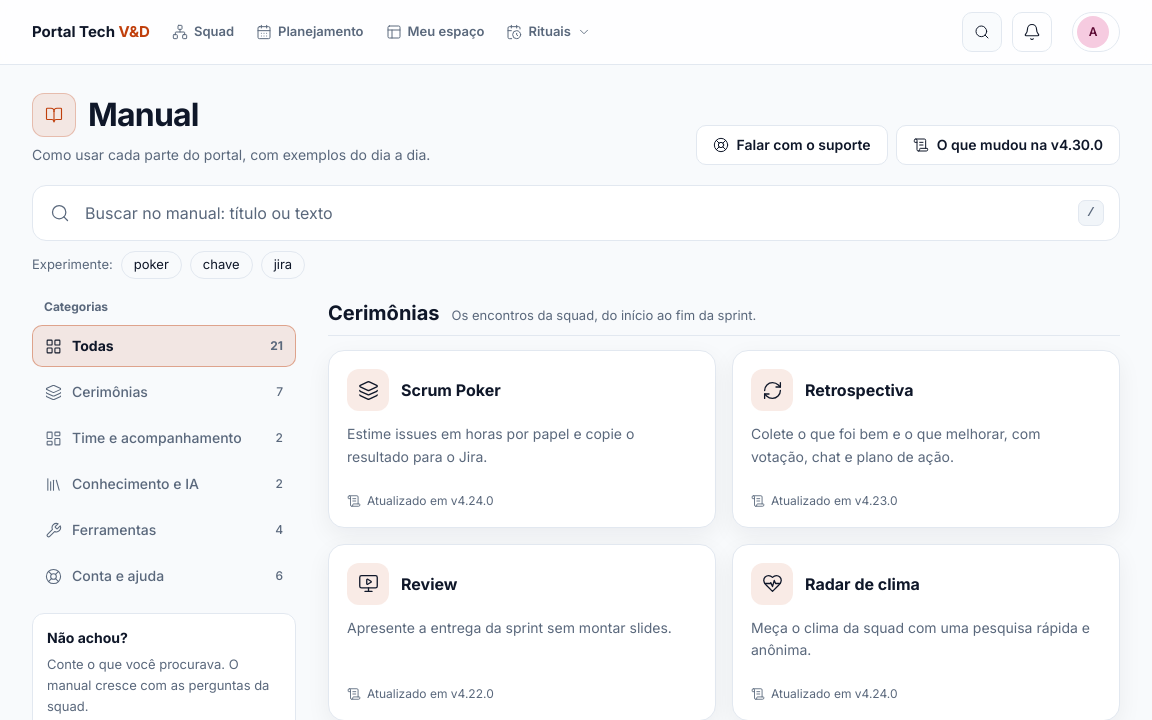
Test: índice do Manual › busca no corpo: mostra o trecho "No texto" e as contagens das categorias acompanham
Step 1. Type "assinatura" into the search field named "Buscar no manual" → (576, 213), box [32,185,1120,241]
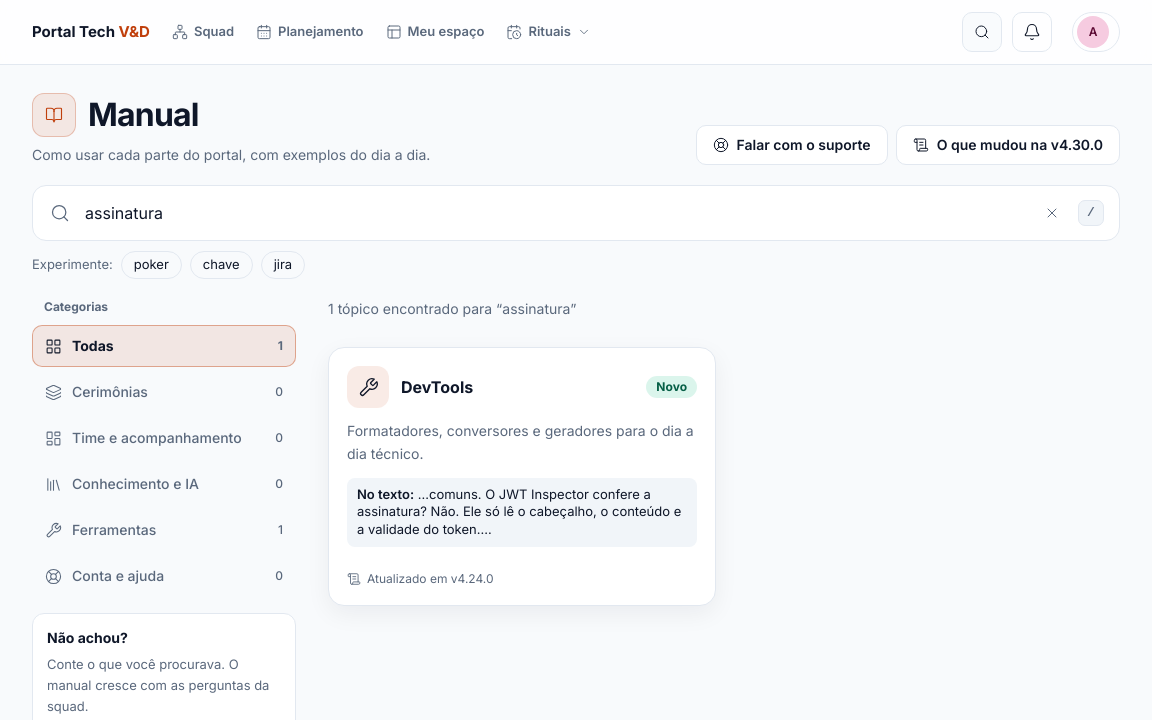
Expected: the text "No texto:" is shown, [357,486,414,502]
Expected: the text "1 tópico encontrado para “assinatura”" is shown, [328,300,576,317]
Expected: the element named "Resultados" is shown, [328,347,716,606]
